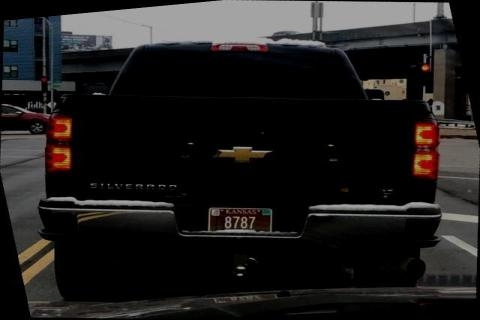LicensePlate: (206, 206, 271, 232)
